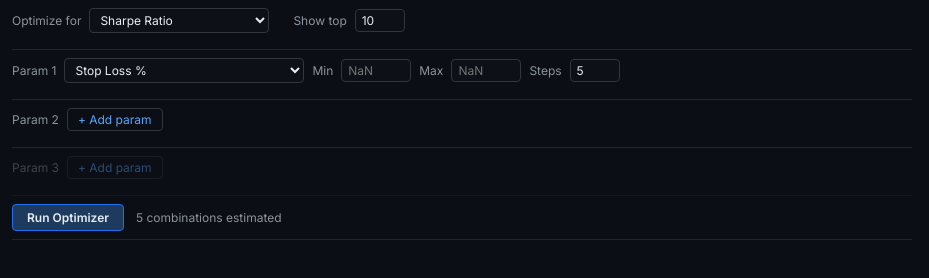
Test case: OptimizerPanel runOptimizer validation — ordered branches › branch 2: rejects blank Max when system default is NaN
Type "1" into the 1st number field with placeholder "NaN" at (376, 70), box x1=341 y1=59 x2=411 y2=82
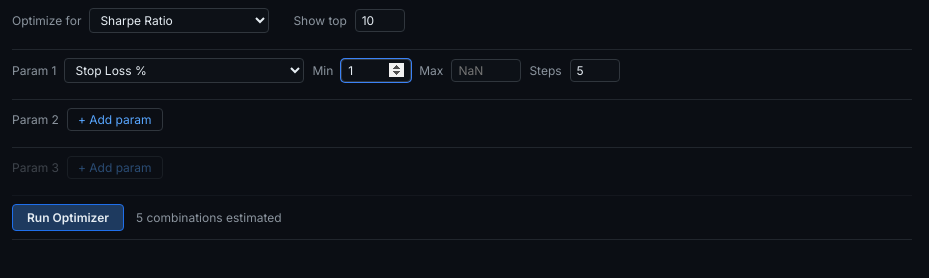
Click the button "Run Optimizer" at (68, 218), box x1=12 y1=204 x2=124 y2=231
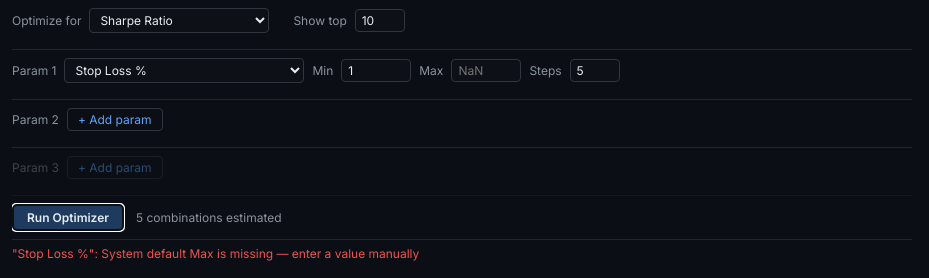
expect the text "\"Stop Loss %\": System default Max is missing — enter a value manually" is shown: met, box x1=12 y1=246 x2=419 y2=261
